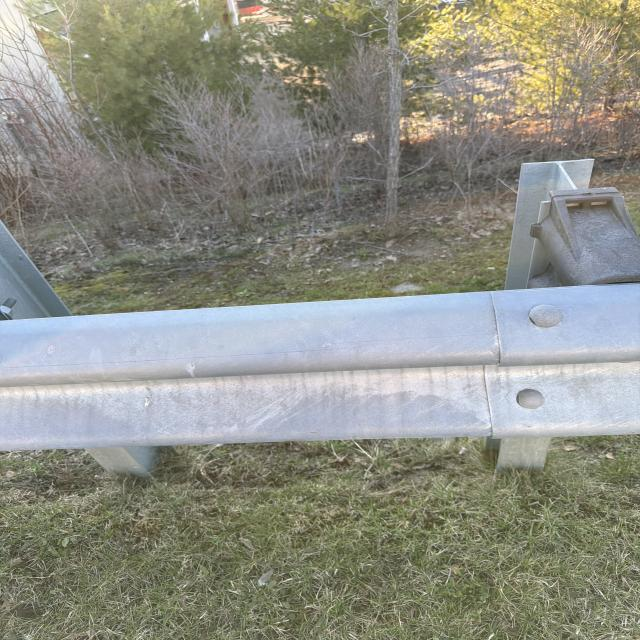Guard rail: (5, 243, 612, 457), (505, 163, 639, 287)
